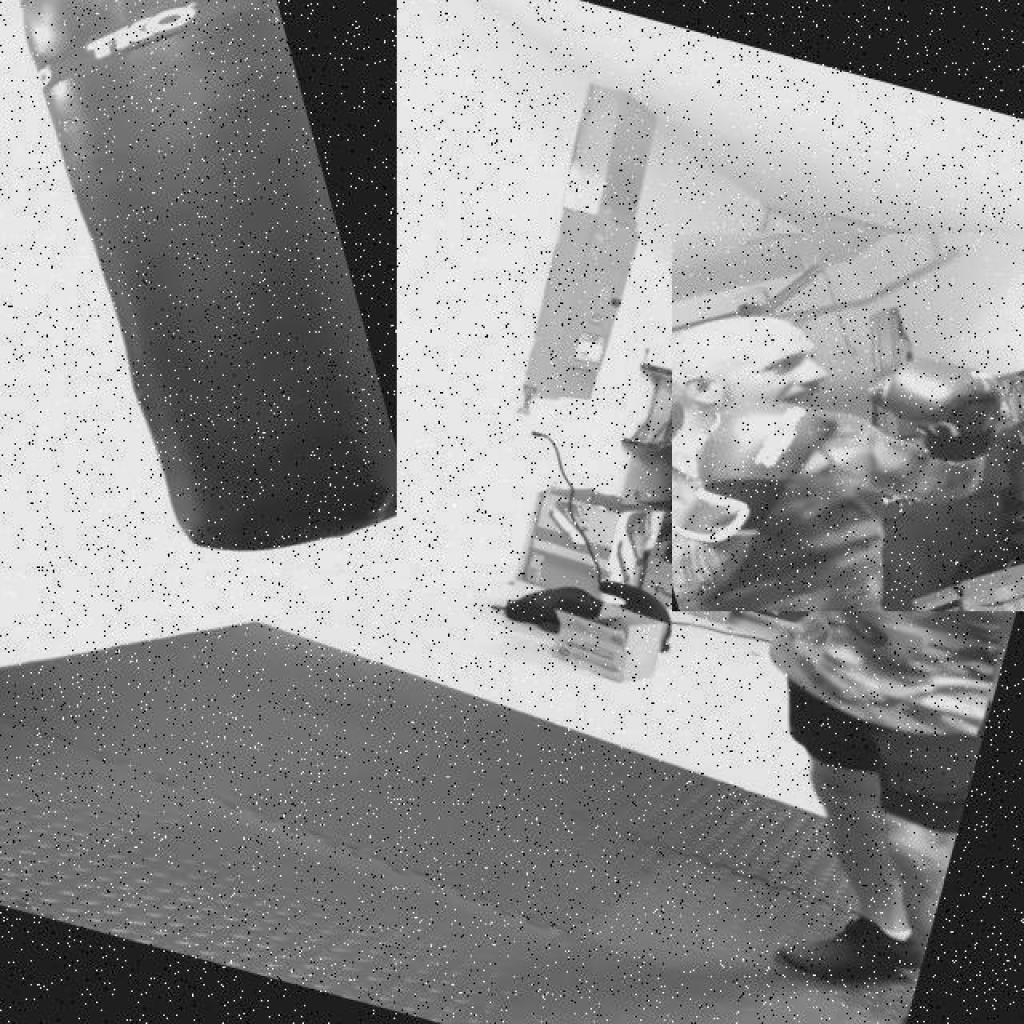bag: (0, 0, 397, 570)
no punch: (672, 234, 1024, 610)
